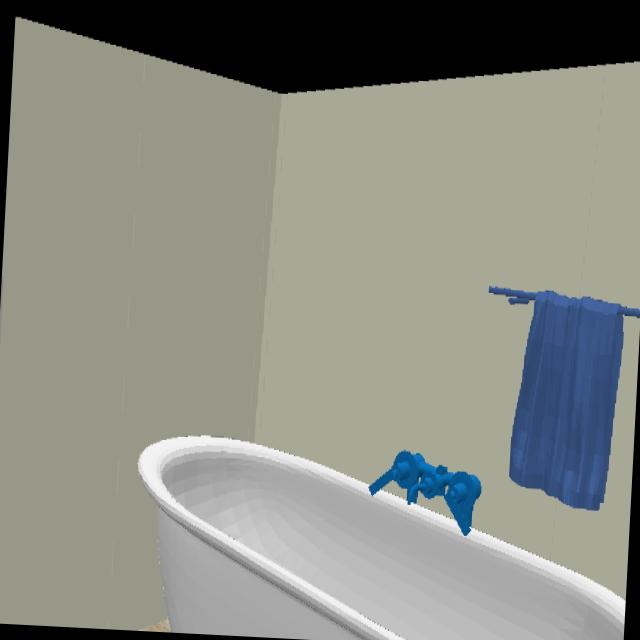bathtube: (135, 435, 626, 640)
